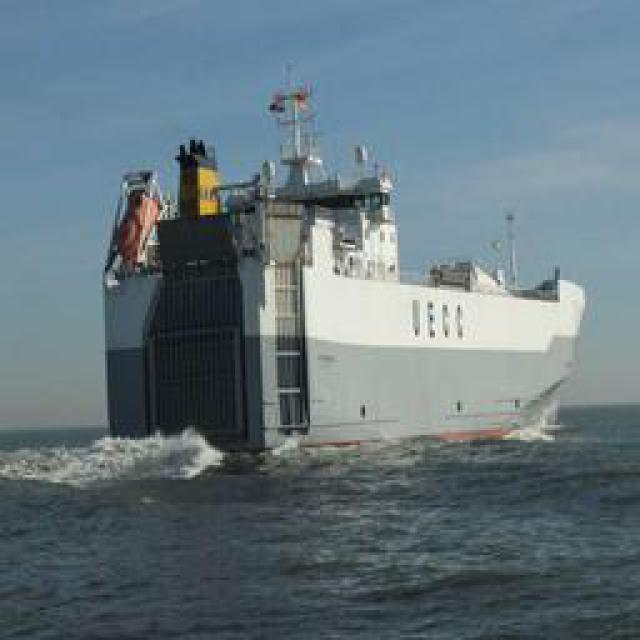Ship: (85, 60, 588, 468)
